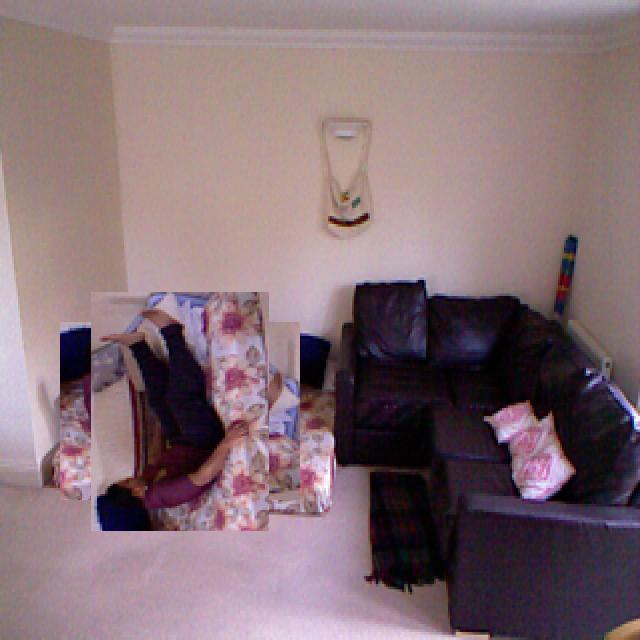Fall: (94, 303, 265, 534)
